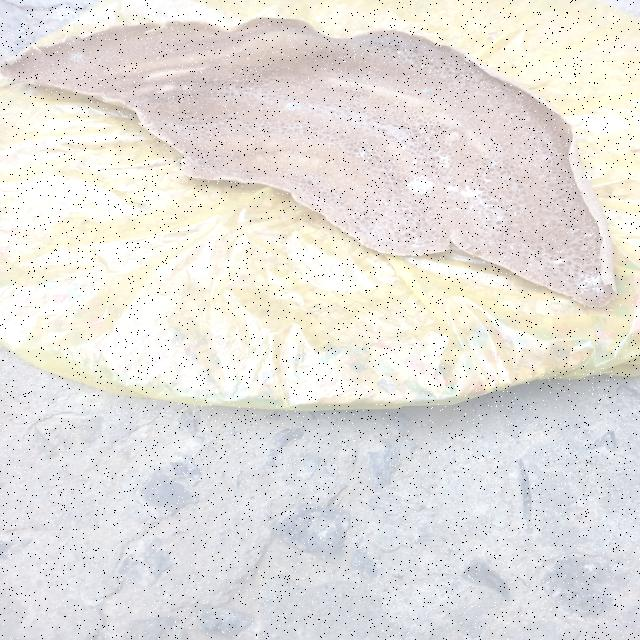injera_mold: (409, 175, 435, 198), (355, 146, 383, 161), (582, 273, 604, 292), (462, 186, 486, 200), (66, 51, 87, 62), (435, 154, 452, 166), (288, 102, 302, 112), (404, 55, 415, 66), (446, 183, 456, 194), (424, 86, 435, 96), (410, 238, 420, 248), (552, 258, 566, 265), (467, 204, 476, 213), (483, 203, 494, 210), (362, 75, 373, 82), (584, 232, 596, 238), (494, 214, 504, 221), (486, 160, 496, 167), (410, 159, 421, 165), (484, 178, 494, 184), (467, 178, 477, 184), (502, 254, 513, 259), (402, 172, 408, 181), (96, 77, 105, 83), (568, 230, 574, 238), (396, 48, 402, 56), (490, 198, 501, 202), (401, 146, 412, 150), (454, 206, 461, 212), (309, 176, 316, 182), (483, 238, 487, 246), (482, 218, 492, 221), (556, 268, 562, 273), (400, 188, 405, 194), (509, 244, 516, 248), (384, 202, 391, 206), (476, 200, 485, 203), (464, 231, 472, 234), (577, 296, 583, 300), (342, 133, 348, 137), (356, 212, 362, 216), (507, 207, 514, 210), (594, 253, 601, 256), (513, 212, 518, 216), (575, 228, 580, 232), (594, 226, 598, 231), (567, 237, 572, 241), (392, 160, 396, 165), (593, 246, 596, 252), (574, 241, 580, 244), (371, 177, 377, 180), (360, 185, 366, 188), (356, 142, 360, 146), (389, 168, 393, 172), (491, 211, 496, 214), (392, 129, 397, 132), (381, 182, 386, 185), (525, 231, 529, 234), (560, 228, 563, 232), (548, 264, 551, 268), (604, 257, 608, 260), (546, 245, 550, 248), (557, 232, 563, 234), (531, 144, 535, 147), (416, 140, 420, 143), (321, 149, 325, 152), (434, 236, 437, 239), (517, 238, 520, 241), (428, 228, 432, 230), (530, 230, 534, 232), (524, 269, 526, 273), (569, 206, 573, 208), (572, 274, 575, 276), (562, 245, 565, 247), (521, 166, 524, 168), (384, 138, 387, 140), (540, 178, 541, 181), (517, 235, 519, 236)
